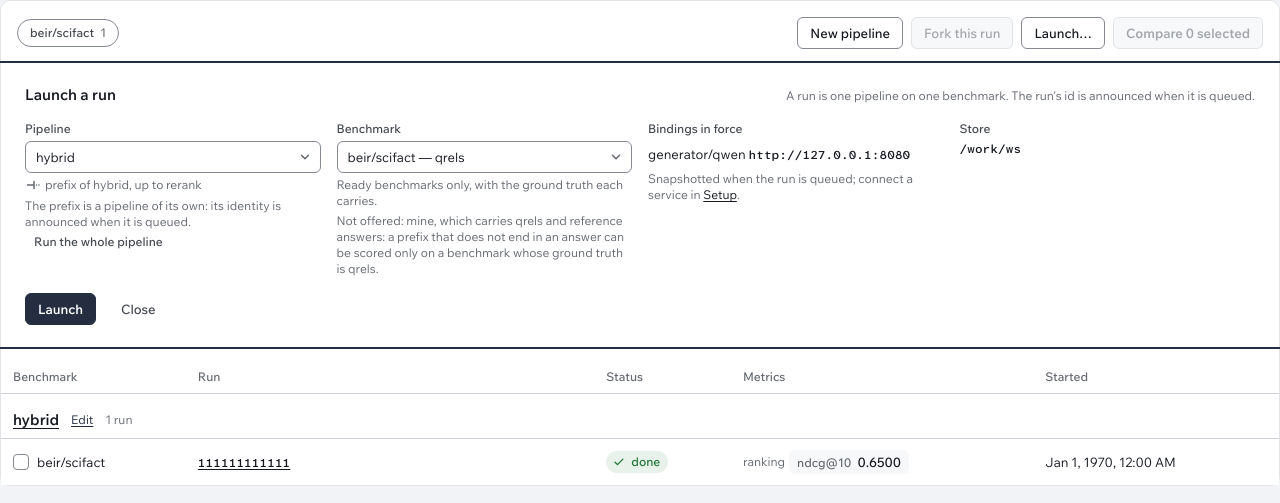
Test: the launch panel up to a node › goes back to the whole pipeline, every ready benchmark offered again
The image size is (1280, 503).
Expected: the text "prefix of hybrid, up to rerank" is shown, [25,177,202,193]
Click the button "Run the whole pipeline". click: (98, 242)
box: [25,230,172,254]
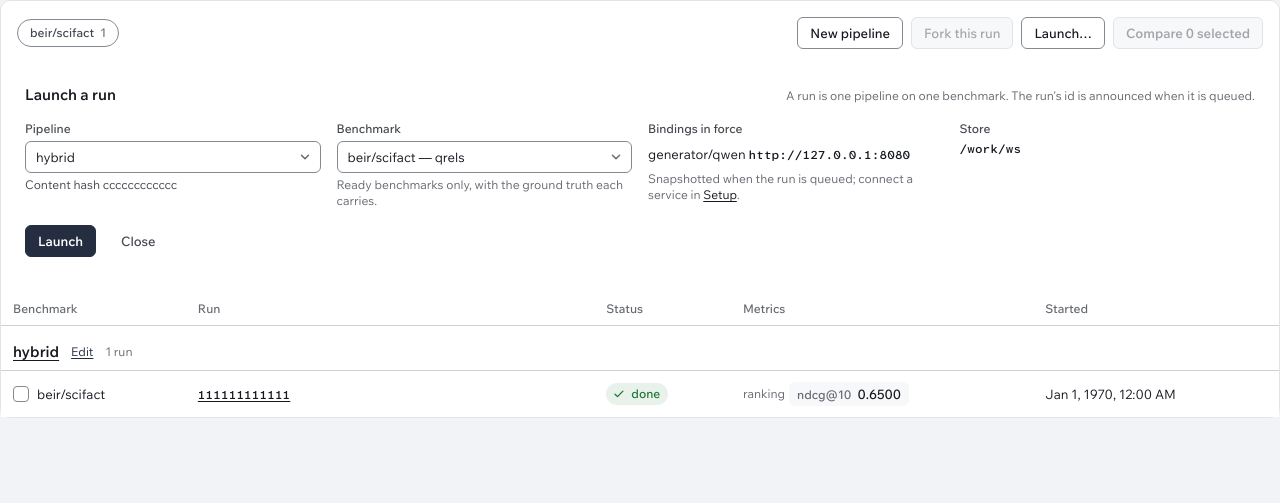
Expected: the text "prefix of hybrid, up to rerank" is gone
